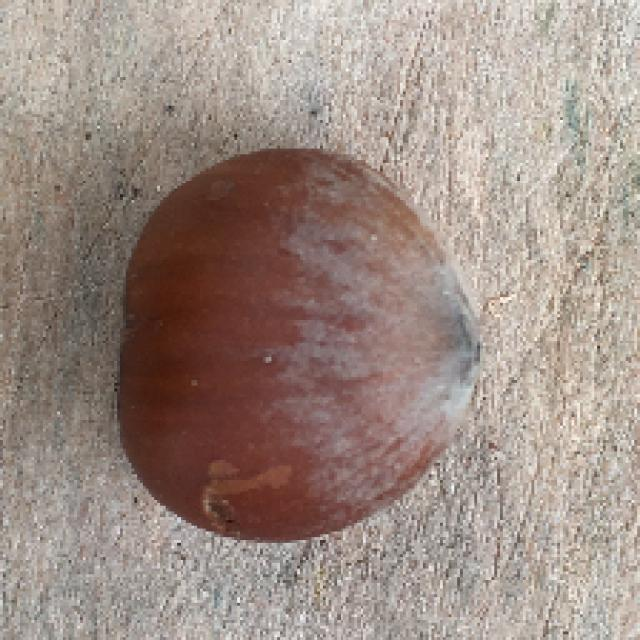QualityHazelnut: (112, 145, 482, 543)
